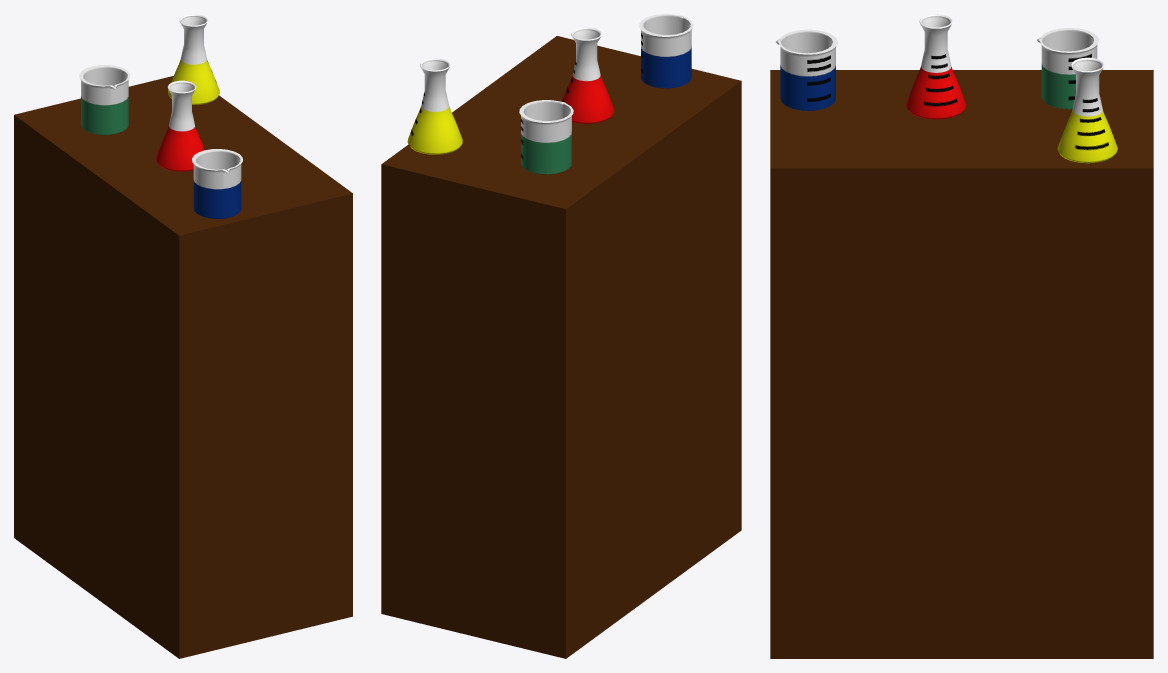
Rendered from table3.fbx.
3 renders of one model, left to right at view 1: azimuth 30°, elevation 25°; view 2: azimuth 150°, elevation 25°; view 3: azimuth 270°, elevation 25°, orthographic. The views are drawn at different scales.
Visible parts, largest first — view 1: pCube2; view 2: pCube2; view 3: pCube2.
Boxes of the visible parts, x1,y1,x2,y2 form: pCube2: [14, 14, 352, 658]; pCube2: [381, 14, 741, 658]; pCube2: [770, 14, 1153, 658].
Bounding box in the file's own units: 2.31 × 6.37 × 3.8.
